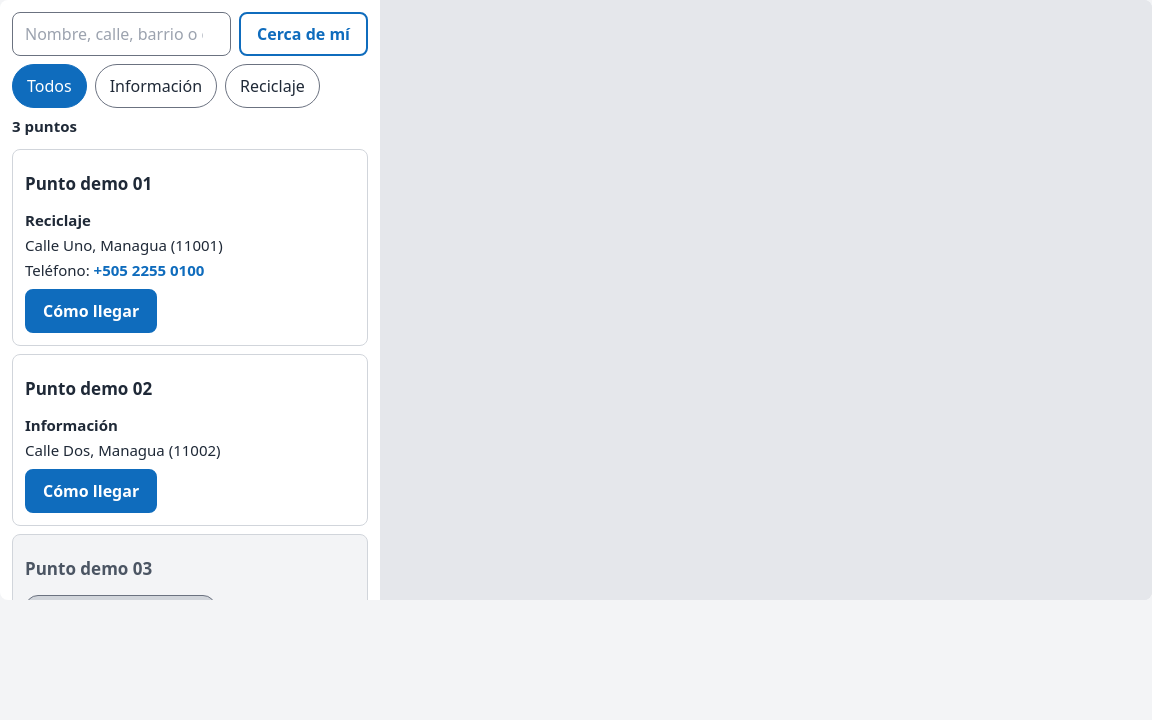
Test: BuscadorPuntos (sin mapa) › un código postal existente ordena todo por distancia al centroide y muestra km
Expected: the button "Punto demo 01" is shown, [25, 162, 355, 206]
Type "11001" into the search field.
click(122, 34); type("11001")  # box [12, 12, 231, 56]
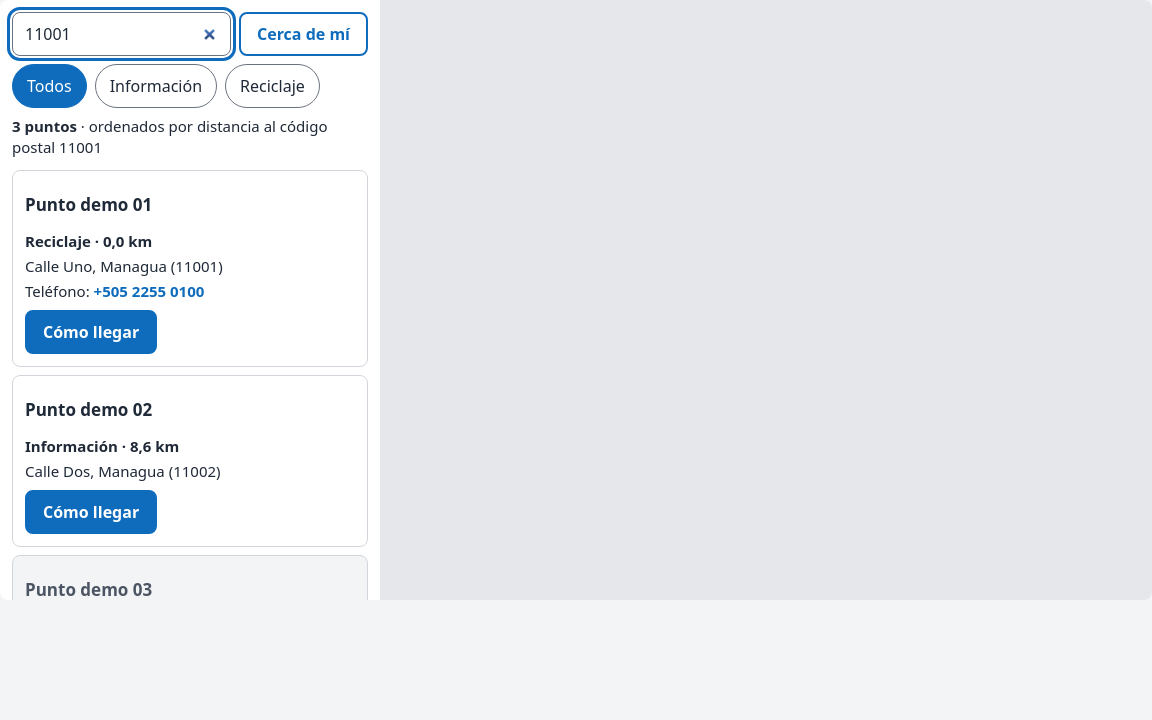
Expected: the button "Punto demo 01" is shown, [25, 183, 355, 227]
Result: the text "3 puntos · ordenados por distancia al código postal 11001" is shown at [12, 116, 368, 158]
Result: the text "0,0 km" is shown at [103, 231, 152, 251]
